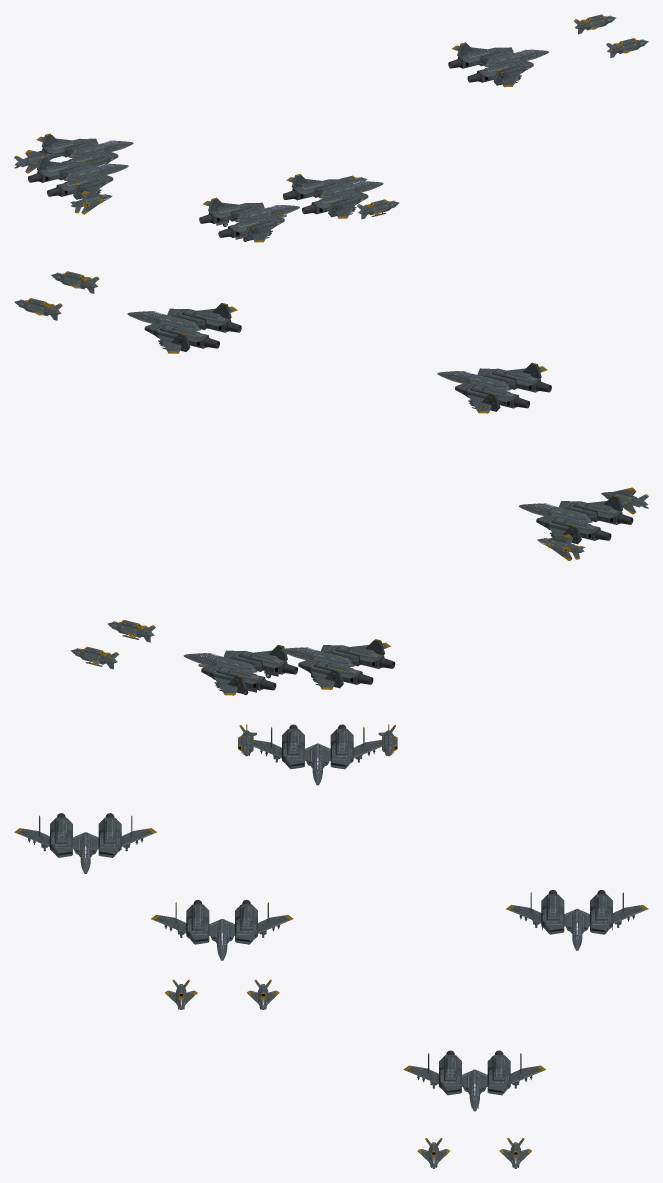
Rendered from hellhound.glb.
3 views of the same model, one above another, from view 1: azimuth 30°, elevation 25°; view 2: azimuth 150°, elevation 25°; view 3: azimuth 270°, elevation 25° (orthographic). The views are drawn at different scales.
Visible parts, largest first — view 1: root; view 2: root; view 3: root.
Boxes of the visible parts, left/top/right/bottom form: root: left=14, top=14, right=648, bottom=242; root: left=14, top=271, right=648, bottom=695; root: left=14, top=724, right=648, bottom=1168.
Bounding box in the file's own units: 24 × 8.89 × 18.74.
8 materials, 8 textured.
